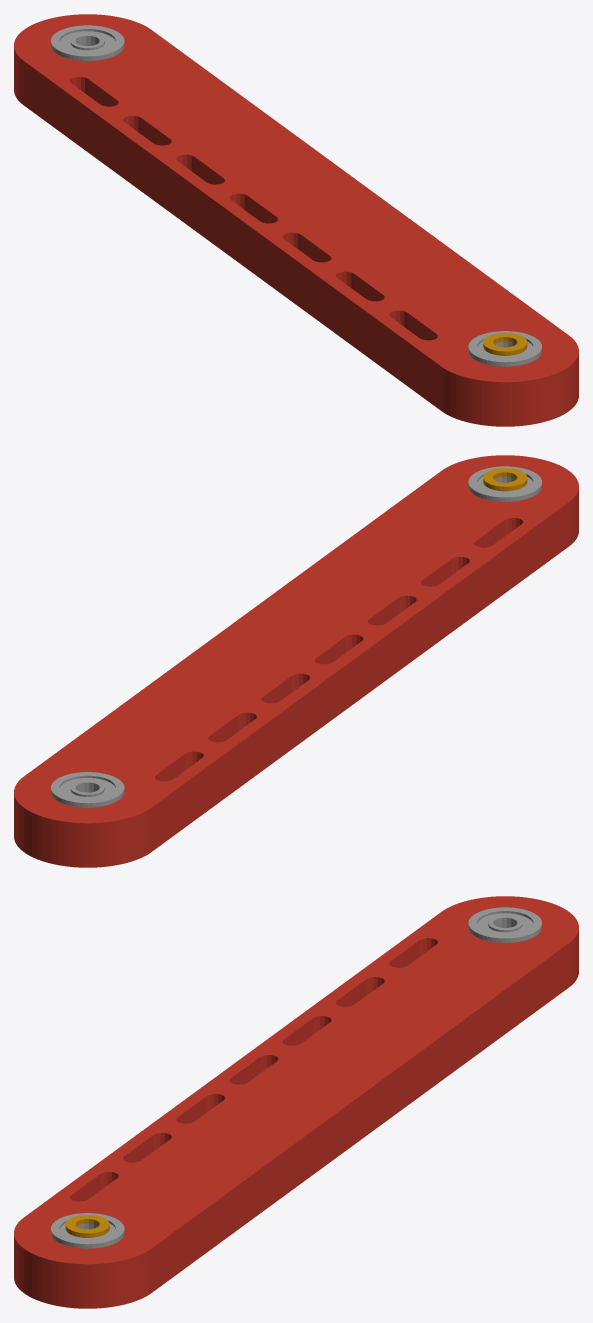
Rendered from parallel_end_link1.dae.
3 views of the same model, one above another, from view 1: azimuth 30°, elevation 25°; view 2: azimuth 150°, elevation 25°; view 3: azimuth 330°, elevation 25° (orthographic).
Visible parts, largest first — view 1: node0, node1, node4, node5; view 2: node0, node1, node4, node5; view 3: node0, node1, node4, node5.
Boxes of the visible parts, x1=… form: node0: x1=14, y1=14, x2=578, y2=426; node1: x1=51, y1=25, x2=124, y2=60; node4: x1=468, y1=331, x2=541, y2=366; node5: x1=483, y1=333, x2=527, y2=355; node0: x1=14, y1=455, x2=578, y2=867; node1: x1=51, y1=772, x2=124, y2=807; node4: x1=468, y1=466, x2=541, y2=501; node5: x1=483, y1=468, x2=527, y2=491; node0: x1=14, y1=896, x2=578, y2=1308; node1: x1=468, y1=907, x2=541, y2=942; node4: x1=51, y1=1213, x2=124, y2=1248; node5: x1=65, y1=1215, x2=109, y2=1237.
Size of the model in its own units: 0.03 by 0.2 by 0.013.
